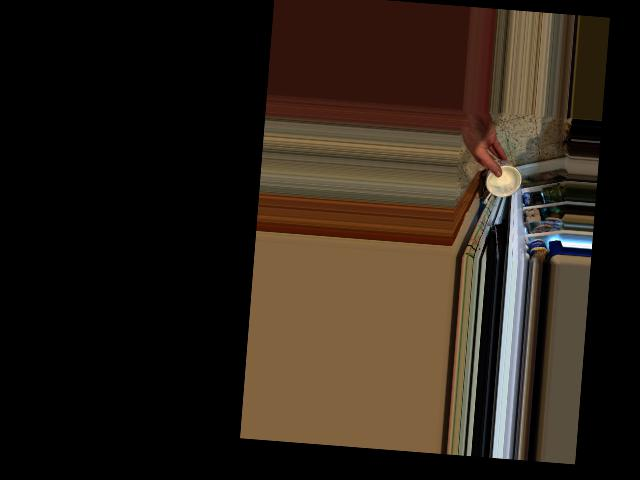cotage: (483, 155, 522, 202)
